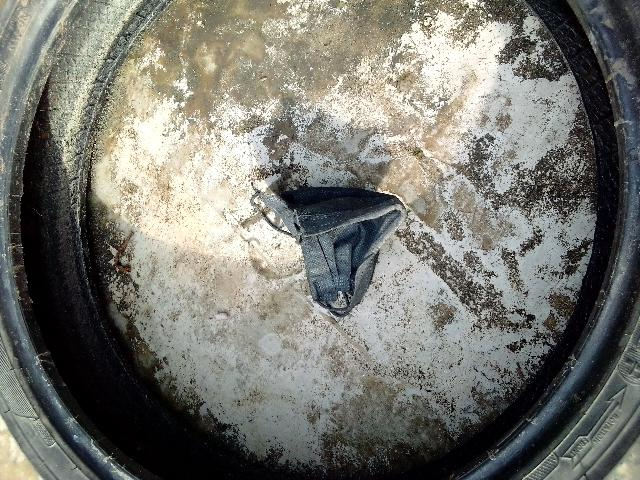mask: (256, 133, 387, 336)
